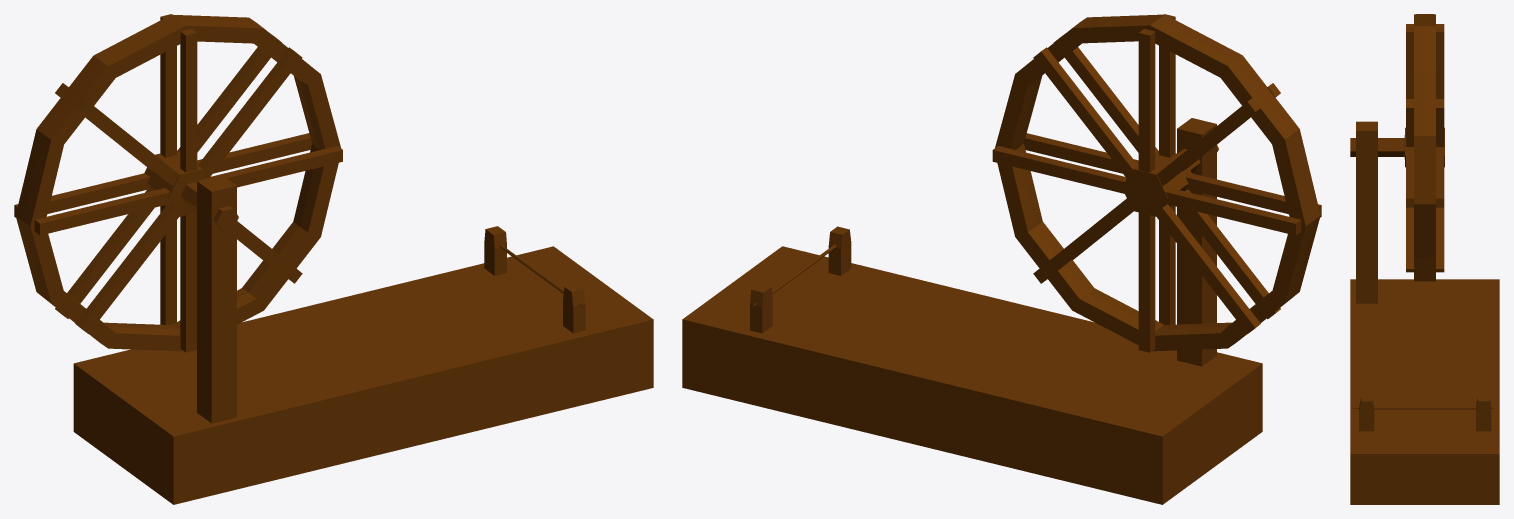
File: Pagkarilyasan.glb
The picture shows the model from 3 angles, left to right: view 1: azimuth 30°, elevation 25°; view 2: azimuth 150°, elevation 25°; view 3: azimuth 270°, elevation 25°; orthographic projection. The views are drawn at different scales.
Parts seen in each view (by area): view 1: WoodenWheel; view 2: WoodenWheel; view 3: WoodenWheel.
Boxes of the visible parts, box(x1,y1,x2,y2) form: WoodenWheel: box(14, 14, 653, 504); WoodenWheel: box(682, 14, 1321, 504); WoodenWheel: box(1350, 14, 1499, 504).
Bounding box in the file's own units: 4.31 × 3.08 × 1.28.
